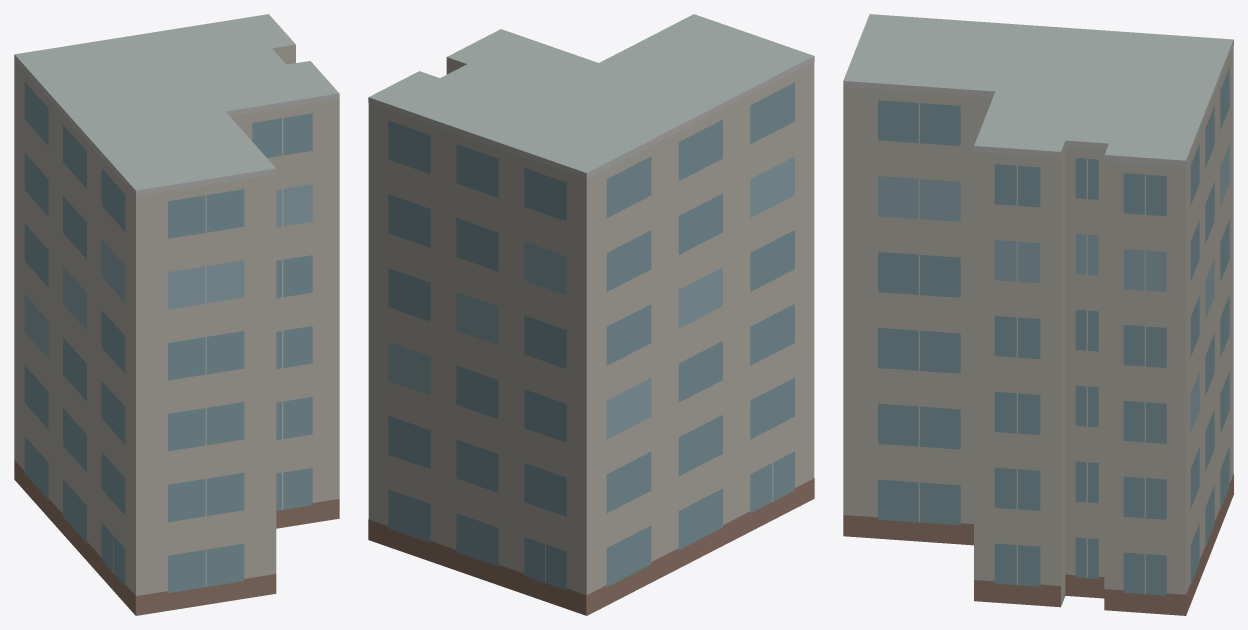
File: survey-upis-32678271.glb
The picture shows the model from 3 angles, left to right: view 1: azimuth 30°, elevation 25°; view 2: azimuth 150°, elevation 25°; view 3: azimuth 270°, elevation 25°; orthographic projection. The views are drawn at different scales.
Parts seen in each view (by area): view 1: survey-upis-32678271.tmp; view 2: survey-upis-32678271.tmp; view 3: survey-upis-32678271.tmp.
Part boxes in pixels (bbox=[...]): survey-upis-32678271.tmp: bbox=[14, 14, 339, 615]; survey-upis-32678271.tmp: bbox=[368, 14, 814, 615]; survey-upis-32678271.tmp: bbox=[843, 14, 1233, 615].
Bounding box in the file's own units: 12.65 × 18.3 × 14.24.
